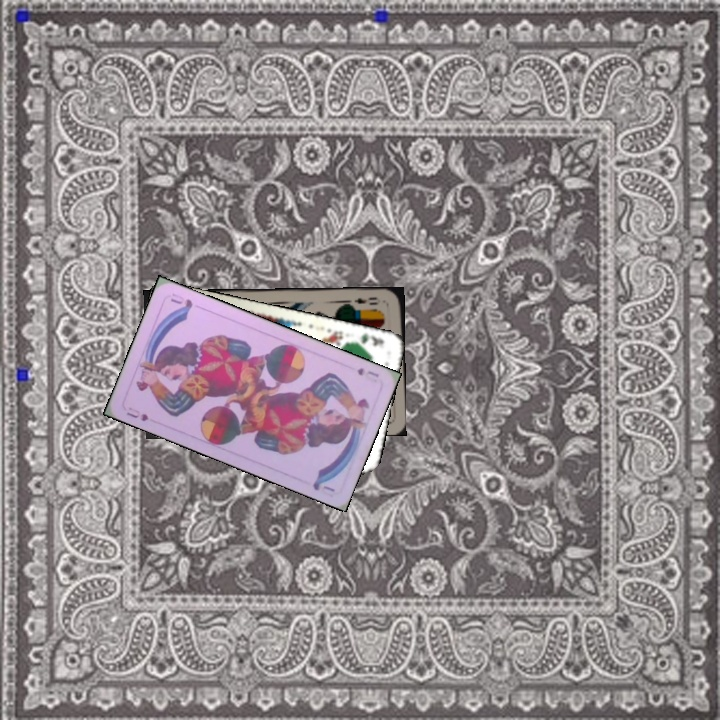EO: (350, 293, 382, 307)
GK: (347, 329, 386, 348)
SU: (121, 403, 151, 424), (353, 363, 382, 380)
